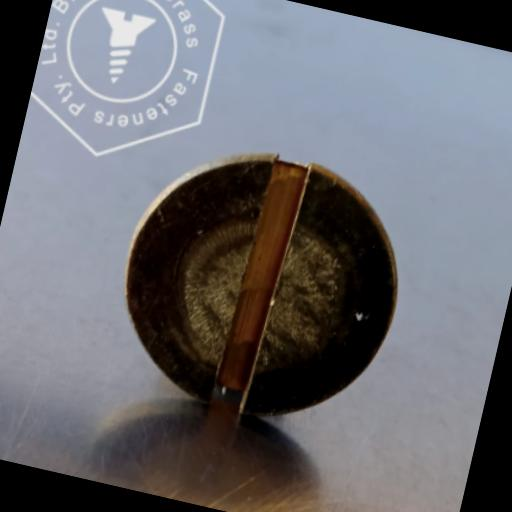Slotted: (100, 127, 422, 446)
